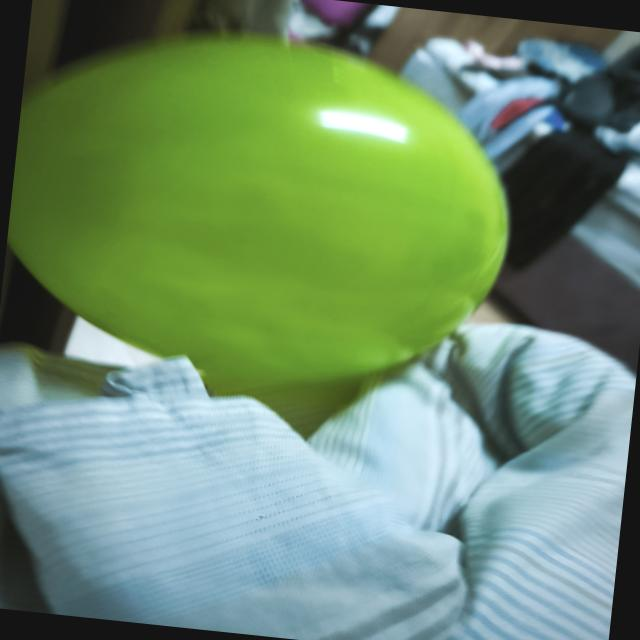balloon: (7, 34, 507, 393)
